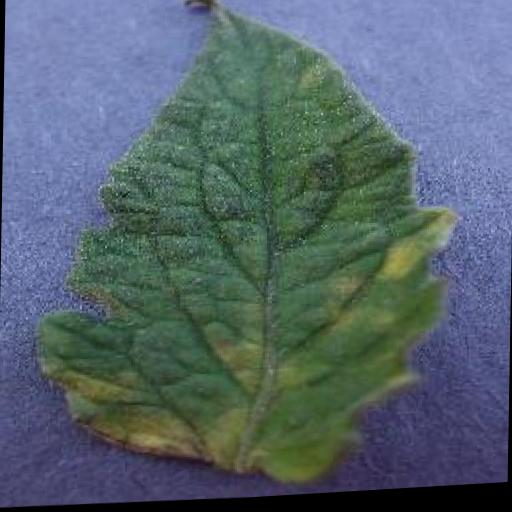Leaf Mold: (27, 0, 459, 505)
